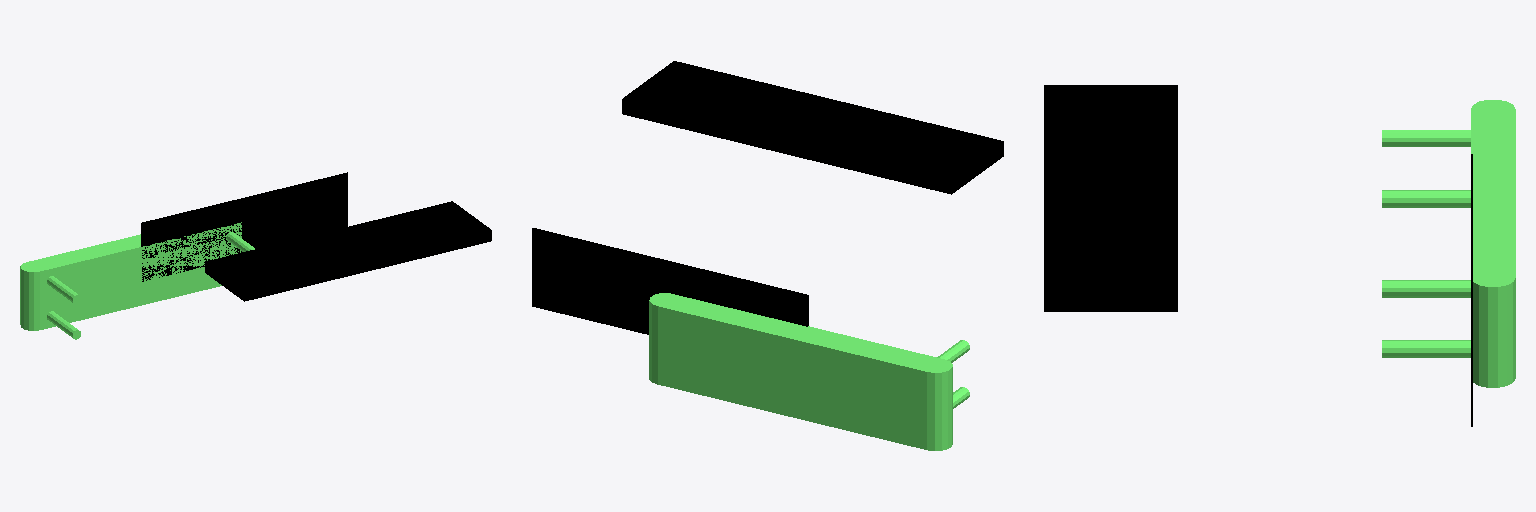
URDF robot description (conveyor_belt):
<?xml version="1.0" encoding="utf-8"?>
<!-- This URDF was automatically created by SolidWorks to URDF Exporter! Originally created by [author] ([email redacted]) 
     Commit Version: 1.6.0-4-g7f85cfe  Build Version: 1.6.7995.38578
     For more information, please see http://wiki.ros.org/sw_urdf_exporter -->
<robot
  name="conveyor_belt">
  <link
    name="belt_base">
    <inertial>
      <origin
        xyz="1.11022302462516E-16 -1.11022302462516E-16 0.025"
        rpy="0 0 0" />
      <mass
        value="16.5" />
      <inertia
        ixx="0.1271875"
        ixy="4.09626036793989E-17"
        ixz="4.88613779066815E-18"
        iyy="1.6671875"
        iyz="-4.1907499658812E-16"
        izz="1.7875" />
    </inertial>
    <visual>
      <origin
        xyz="0 0 0"
        rpy="0 0 0" />
      <geometry>
        <mesh
          filename="package://conveyor_belt/meshes/belt_base.STL" />
      </geometry>
      <material
        name="">
        <color
          rgba="0 0 0 1" />
      </material>
    </visual>
    <collision>
      <origin
        xyz="0 0 0"
        rpy="0 0 0" />
      <geometry>
        <mesh
          filename="package://conveyor_belt/meshes/belt_base.STL" />
      </geometry>
    </collision>
  </link>
  <link
    name="belt_body">
    <inertial>
      <origin
        xyz="0 -2.22044604925031E-16 0.0440791706940699"
        rpy="0 0 0" />
      <mass
        value="25.4688050576424" />
      <inertia
        ixx="0.178224280202433"
        ixy="-7.00919763852934E-17"
        ixz="1.67838018042271E-18"
        iyy="2.16108992355413"
        iyz="-3.07796178423394E-16"
        izz="2.24920451600626" />
    </inertial>
    <visual>
      <origin
        xyz="0 0 0"
        rpy="0 0 0" />
      <geometry>
        <mesh
          filename="package://conveyor_belt/meshes/belt_body.STL" />
      </geometry>
      <material
        name="">
        <color
          rgba="0.501960784313725 1 0.501960784313725 1" />
      </material>
    </visual>
    <collision>
      <origin
        xyz="0 0 0"
        rpy="0 0 0" />
      <geometry>
        <mesh
          filename="package://conveyor_belt/meshes/belt_body.STL" />
      </geometry>
    </collision>
  </link>
  <joint
    name="belt_body_joint"
    type="fixed">
    <origin
      xyz="0.05 0 0.25"
      rpy="0 0 0" />
    <parent
      link="belt_base" />
    <child
      link="belt_body" />
    <axis
      xyz="0 0 0" />
  </joint>
  <link
    name="belt_moving">
    <inertial>
      <origin
        xyz="0 0 0.00249999999999984"
        rpy="0 0 0" />
      <mass
        value="1.15" />
      <inertia
        ixx="0.00599197916666667"
        ixy="1.00903082185984E-18"
        ixz="4.8890289964615E-20"
        iyy="0.0811157291666667"
        iyz="-2.09041534284049E-17"
        izz="0.0871029166666667" />
    </inertial>
    <visual>
      <origin
        xyz="0 0 0"
        rpy="0 0 0" />
      <geometry>
        <mesh
          filename="package://conveyor_belt/meshes/belt_moving.STL" />
      </geometry>
      <material
        name="">
        <color
          rgba="0 0 0 1" />
      </material>
    </visual>
    <collision>
      <origin
        xyz="0 0 0"
        rpy="0 0 0" />
      <geometry>
        <mesh
          filename="package://conveyor_belt/meshes/belt_moving.STL" />
      </geometry>
    </collision>
  </link>
  <joint
    name="belt_moving_joint"
    type="prismatic">
    <origin
      xyz="0.0031673 0 0.1"
      rpy="0 0 0" />
    <parent
      link="belt_body" />
    <child
      link="belt_moving" />
    <axis
      xyz="1 0 0" />
    <limit
      lower="0"
      upper="0"
      effort="0"
      velocity="0" />
  </joint>
</robot>

--- Facts derived from the render (not from the file) ---
3 views of the same robot in one strip: view 1: azimuth 30°, elevation 25°; view 2: azimuth 150°, elevation 25°; view 3: azimuth 270°, elevation 25° (orthographic).
Robot: conveyor_belt — 3 links, 2 joints (1 prismatic, 1 fixed); root link belt_base; default pose: all joints at 0.
Links seen in each view (by area): view 1: belt_body, belt_base, belt_moving; view 2: belt_body, belt_base, belt_moving; view 3: belt_base, belt_body, belt_moving.
Link boxes in pixels (left/top/right/bottom): belt_body: left=20, top=222, right=254, bottom=339; belt_base: left=205, top=201, right=491, bottom=301; belt_moving: left=141, top=172, right=347, bottom=281; belt_body: left=649, top=293, right=969, bottom=450; belt_base: left=622, top=61, right=1003, bottom=194; belt_moving: left=532, top=228, right=808, bottom=334; belt_base: left=1044, top=85, right=1177, bottom=311; belt_body: left=1382, top=100, right=1515, bottom=387; belt_moving: left=1471, top=154, right=1472, bottom=426.
Bounding box of the posed robot: 1.51 × 1.06 × 0.4763 m (x, y, z).
3 mesh visuals loaded from 3 distinct referenced files (3 binary STL).